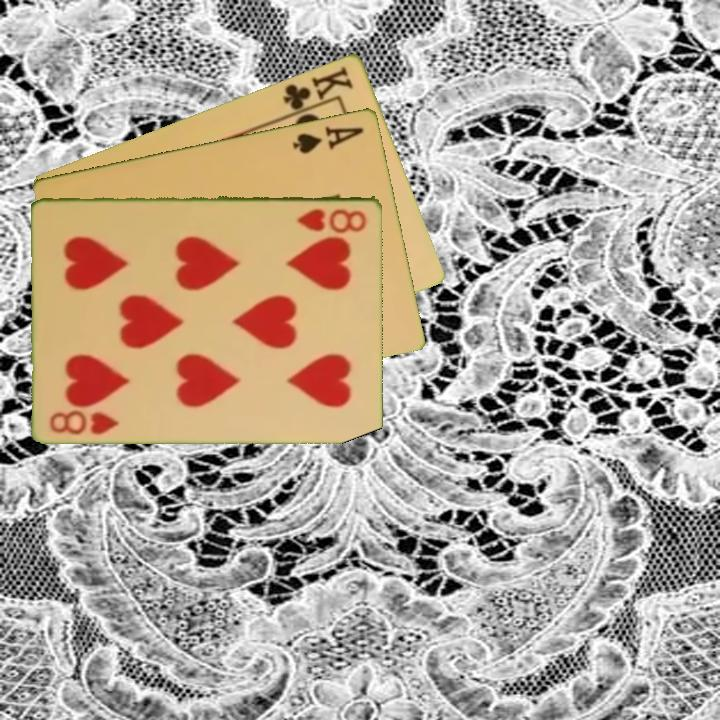8h: (46, 406, 122, 437), (294, 205, 370, 234)
As: (289, 122, 367, 156)
Kc: (279, 62, 356, 119)
